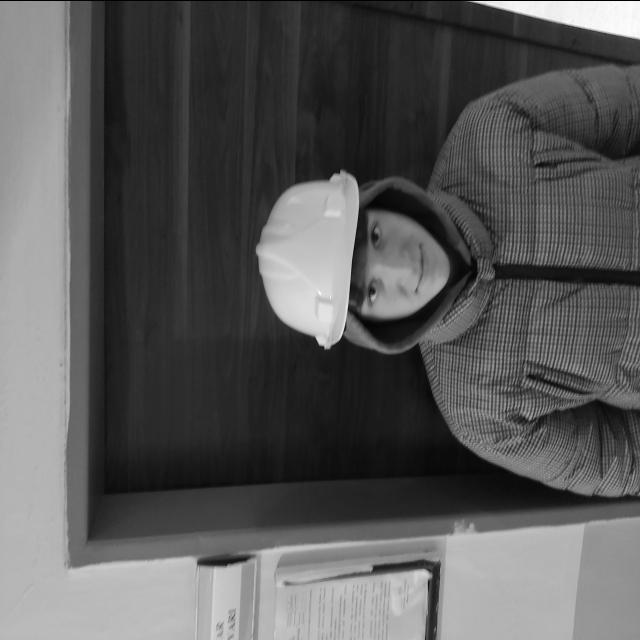safety_helmet: (257, 169, 362, 348)
